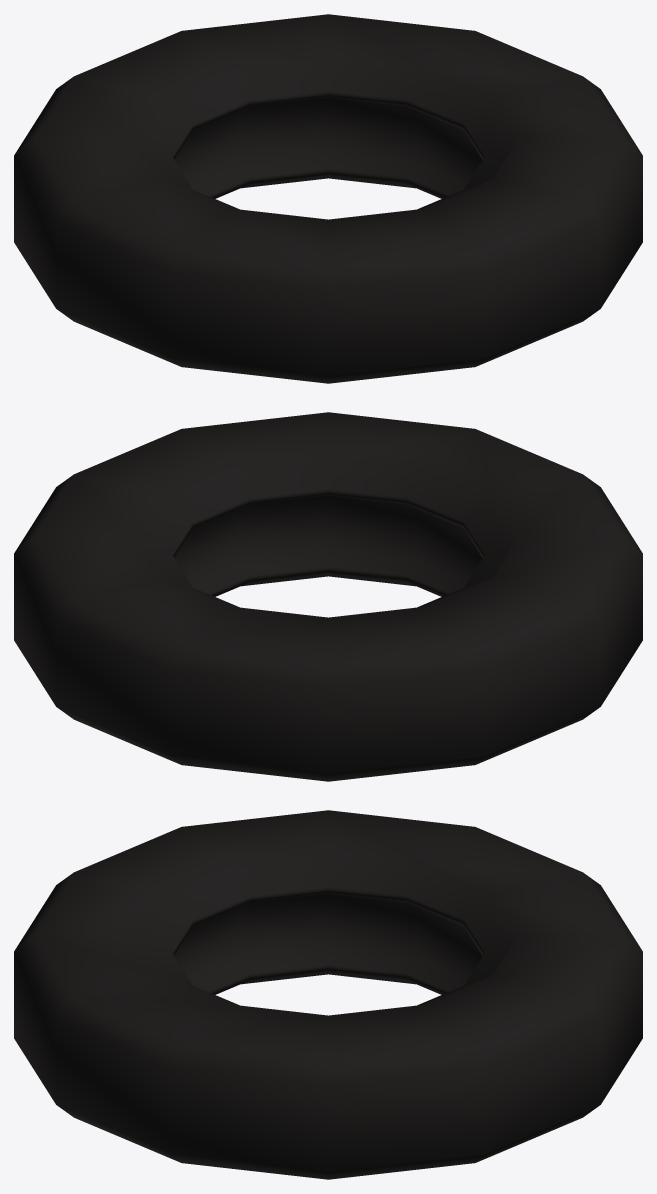
File: Tire.glb
The picture shows the model from 3 angles, top to bottom: view 1: azimuth 30°, elevation 25°; view 2: azimuth 150°, elevation 25°; view 3: azimuth 270°, elevation 25°; orthographic projection.
Visible parts, largest first — view 1: Tire; view 2: Tire; view 3: Tire.
Boxes of the visible parts, box(x1,y1,x2,y2) form: Tire: box(14, 14, 642, 383); Tire: box(14, 412, 642, 781); Tire: box(14, 810, 642, 1179).
Bounding box in the file's own units: 2 × 0.4248 × 2.
1 material, 1 textured.
